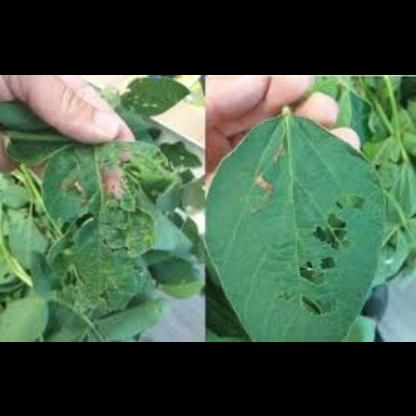agujero: (294, 254, 338, 288), (312, 209, 348, 250), (297, 294, 335, 320), (334, 192, 368, 212)
